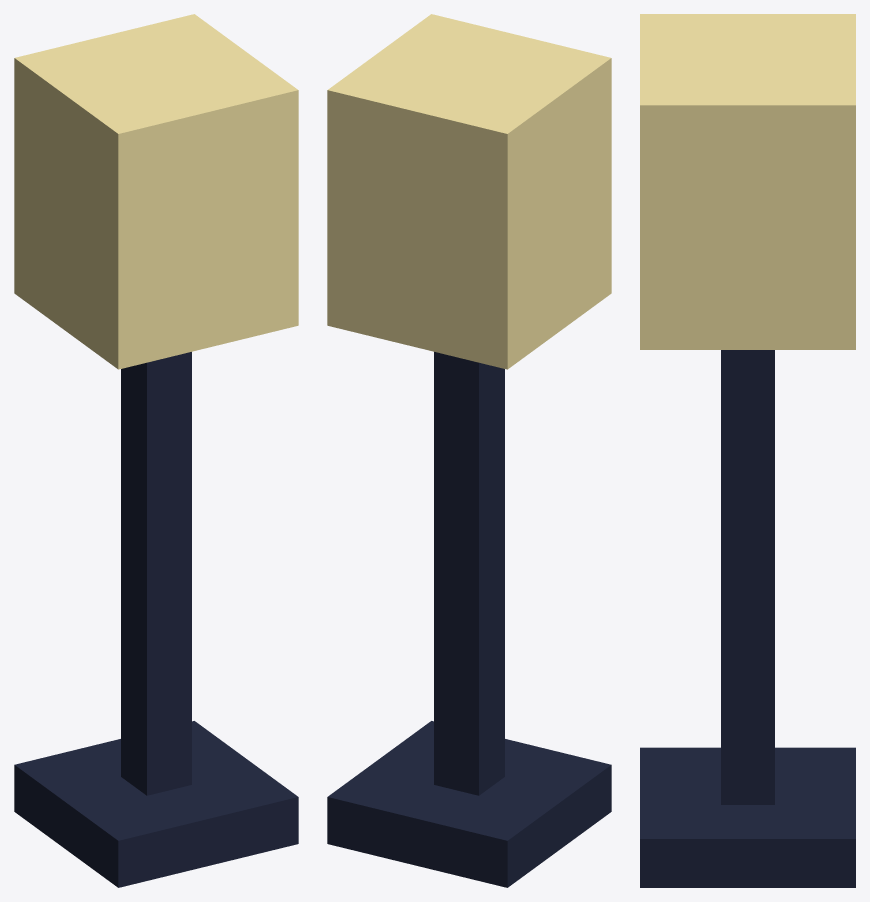
Rendered from lamp.fbx.
3 views of the same model, side by side, from view 1: azimuth 30°, elevation 25°; view 2: azimuth 150°, elevation 25°; view 3: azimuth 270°, elevation 25° (orthographic). The views are drawn at different scales.
Parts seen in each view (by area): view 1: group; view 2: group; view 3: group.
Part boxes in pixels (box(x1,y1,x2,y2)): group: box(14, 14, 298, 887); group: box(327, 14, 611, 887); group: box(640, 14, 855, 887).
Bounding box in the file's own units: 25 × 100 × 25.
2 materials, 2 textured.
